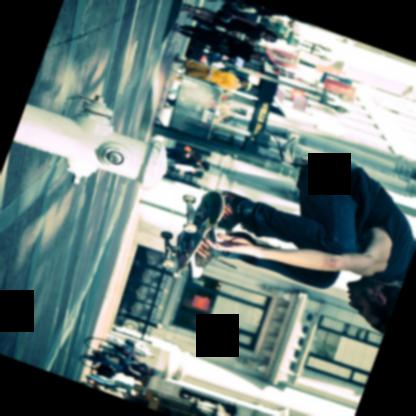handbag: (121, 338, 144, 355), (217, 9, 232, 22)
